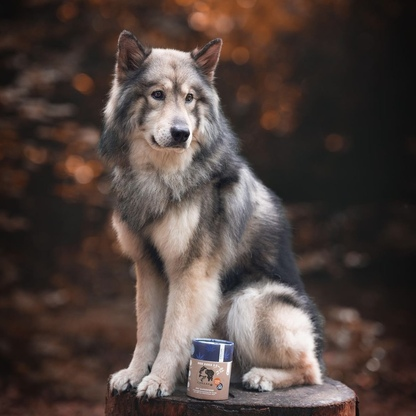husky: (89, 26, 332, 402)
